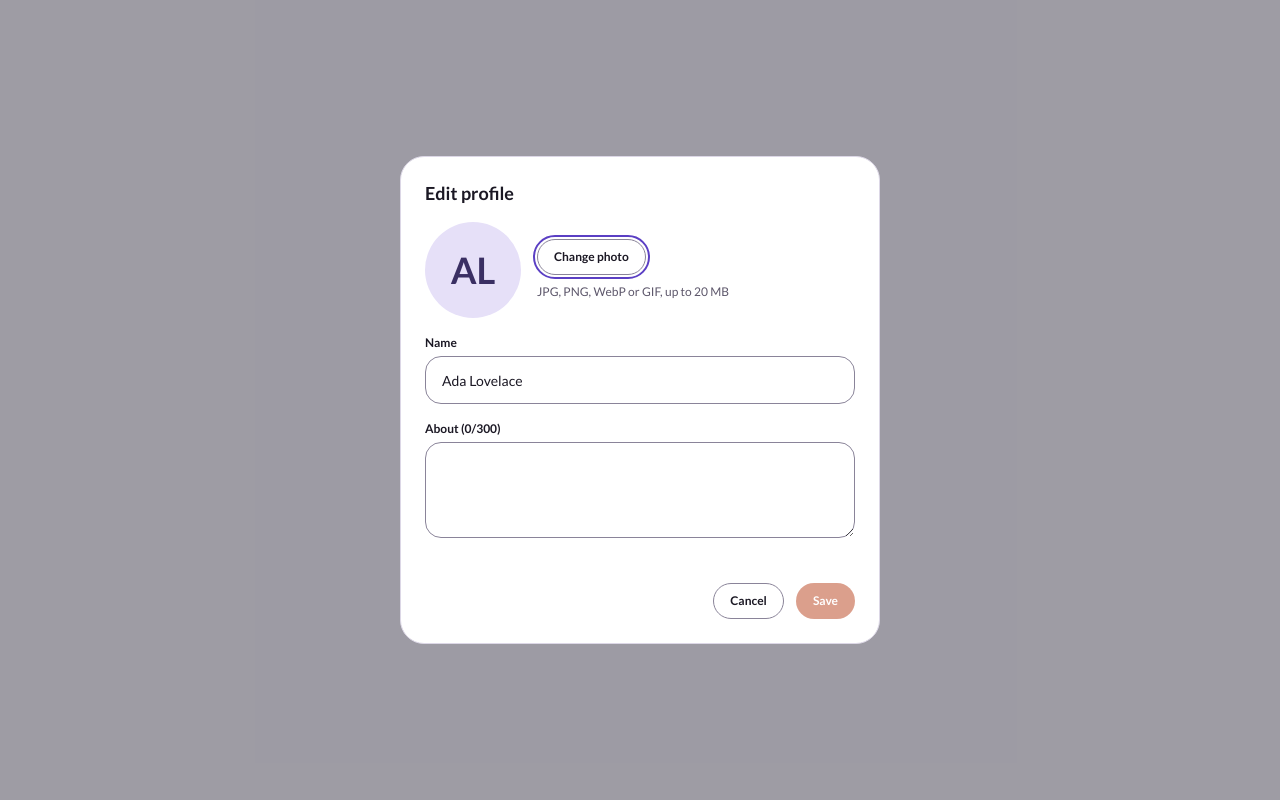
Test: EditProfileDialog › keeps an empty name from being sent
Clear the field labelled "Name" at [640, 380], box x1=425 y1=356 x2=855 y2=404
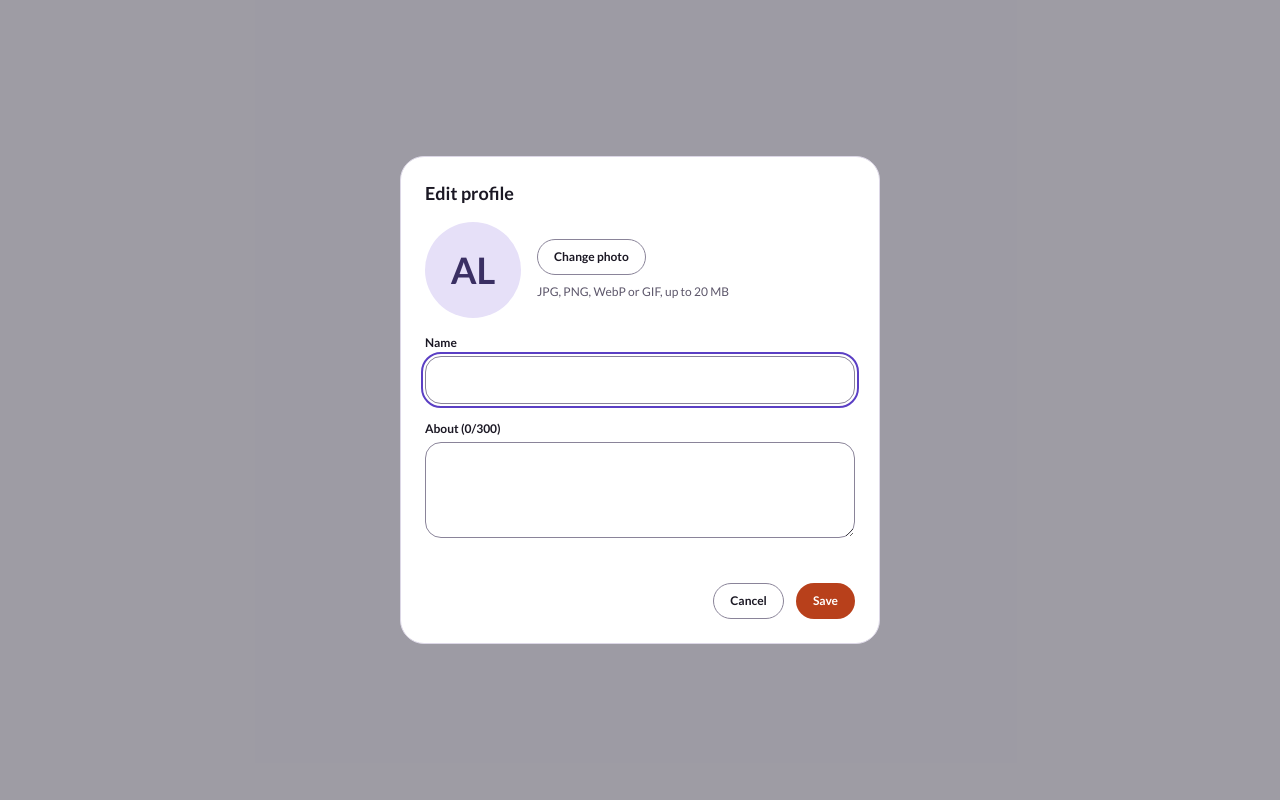
Click the button "Save" at [825, 601], box x1=796 y1=583 x2=855 y2=619
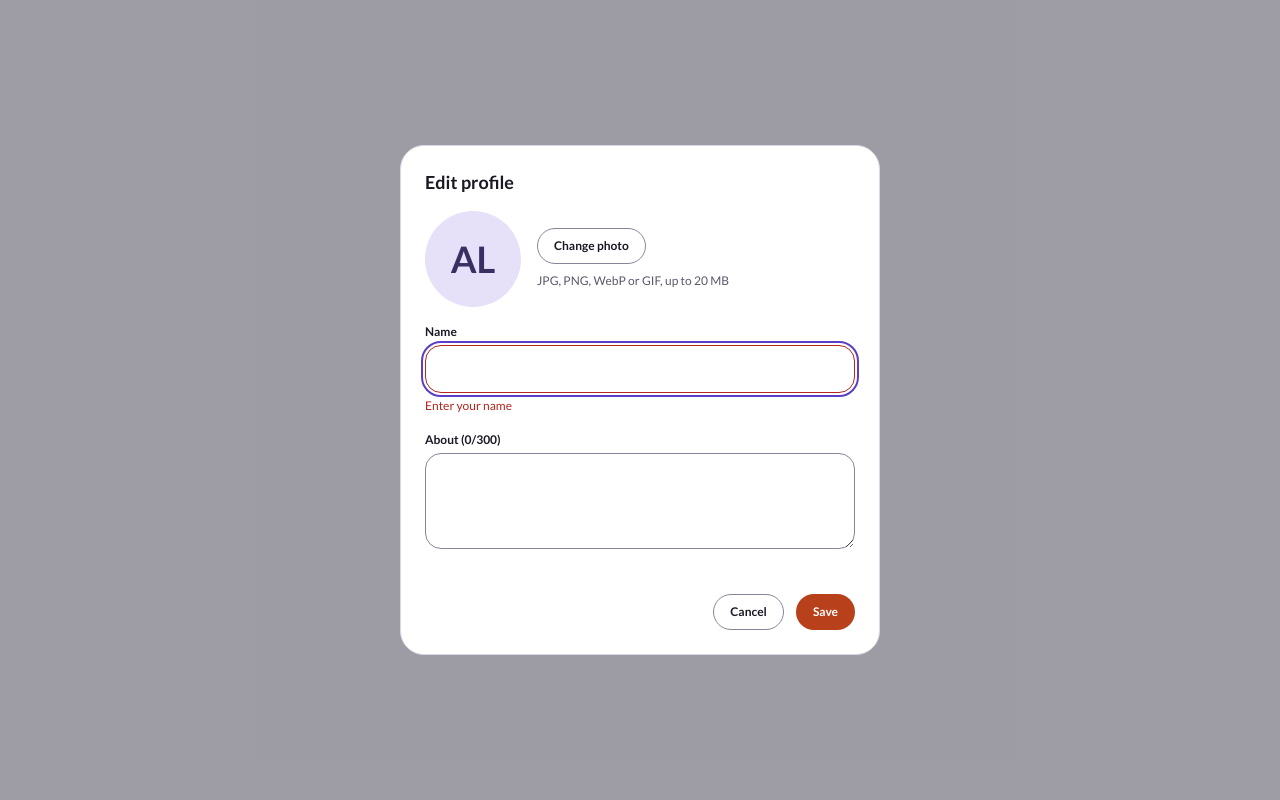
Now the text "Enter your name" is shown, box x1=425 y1=398 x2=512 y2=413
